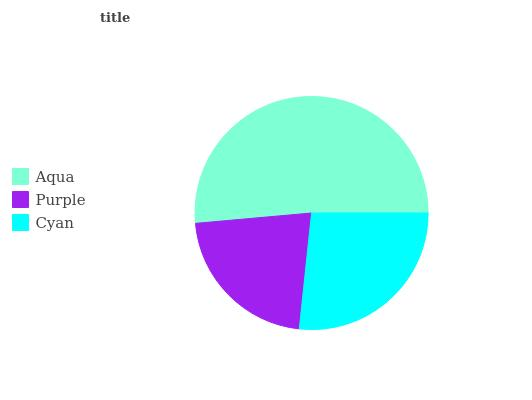legend: (0, 157, 96, 243)
sector: (193, 96, 429, 221), (297, 211, 428, 329), (191, 211, 311, 329)
